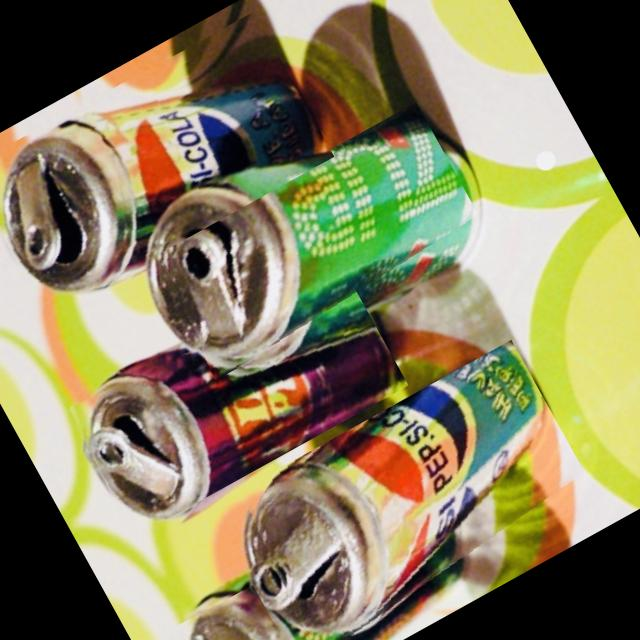Cans: (227, 338, 600, 640), (0, 8, 334, 320), (61, 258, 408, 538), (144, 101, 487, 380), (159, 583, 311, 640)
